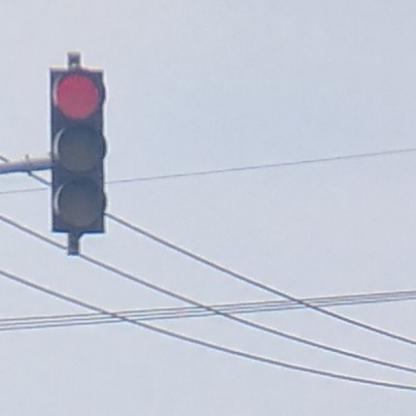red: (48, 67, 110, 237)
